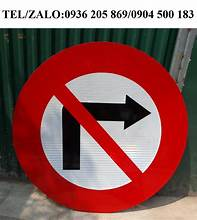No_turn_right: (10, 41, 189, 214)
